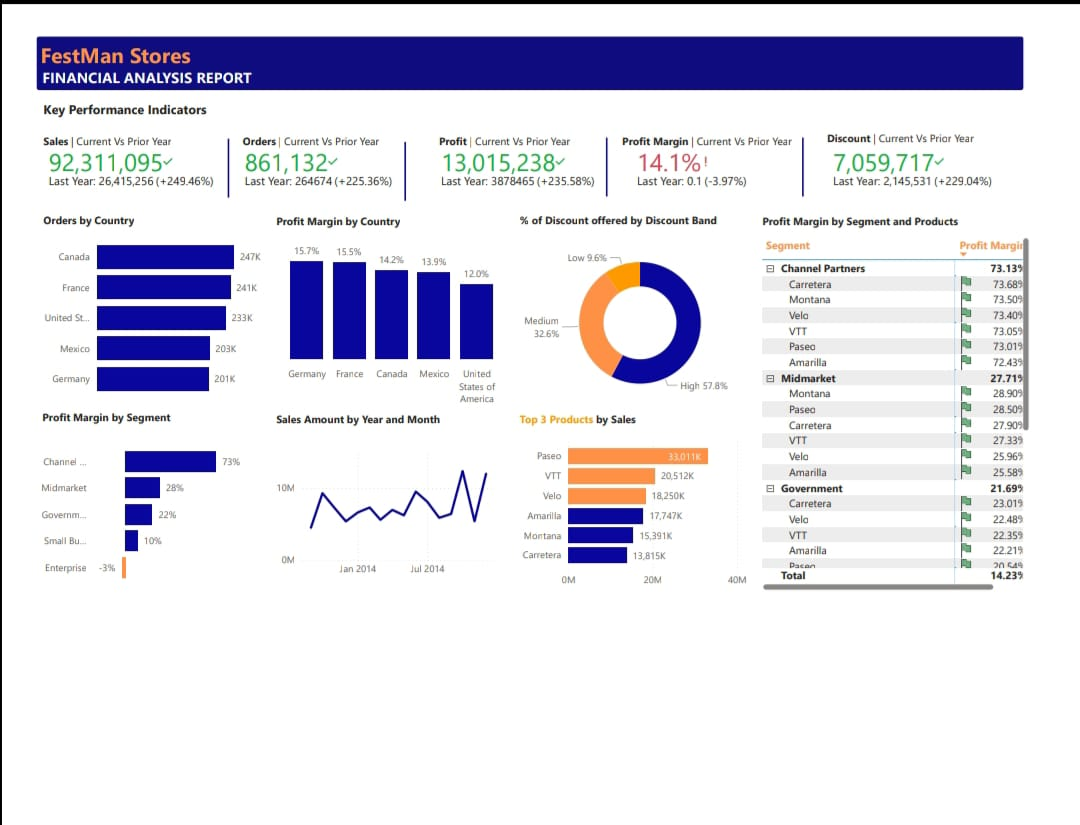

This screenshot's page, from the dashboard's own definition file:
{"tool":"powerbi","page":{"name":"Page 1","canvas":[1280,720],"ordinal":0},"visuals":[{"type":"shape","box":[11,8.2,1257,68.6],"z":1000},{"type":"shape","box":[11,79.6,1257,46.7],"z":2000},{"type":"shape","box":[11,127.6,1257,96.1],"z":3000},{"type":"shape","box":[11,259.3,290.9,216.8],"z":4000},{"type":"shape","box":[930.4,227.8,337.6,30.2],"z":5000},{"type":"shape","box":[311.5,262.1,299.1,216.8],"z":6000},{"type":"shape","box":[621.6,259.3,299.1,216.8],"z":7000},{"type":"shape","box":[311.5,226.4,299.1,32.9],"z":8000},{"type":"shape","box":[621.6,226.4,299.1,30.2],"z":9000},{"type":"shape","box":[11,226.4,290.9,31.6],"z":10000},{"type":"shape","box":[11,513.2,290.9,207.2],"z":11000},{"type":"shape","box":[311.5,513.2,299.1,207.2],"z":12000},{"type":"shape","box":[621.6,478.9,299.1,30.2],"z":14000},{"type":"shape","box":[311.5,481.6,299.1,28.8],"z":15000},{"type":"shape","box":[11,478.9,290.9,31.6],"z":16000},{"type":"textbox","box":[11,8.2,220.9,53.5],"z":17000},{"type":"textbox","box":[13.7,42.5,435,53.5],"z":18000},{"type":"textbox","box":[15.1,85.1,435,53.5],"z":19000},{"type":"kpi","fields":{"Indicator":["Analysis.Sales Amount"],"TrendLine":["Date Table.Year"],"Goal":["Analysis.Sales Amount LY"]},"box":[13.7,126.2,255.2,101.5],"z":20000},{"type":"textbox","box":[15.1,127.6,204.5,27.4],"z":21000},{"type":"shape","box":[86.4,138.6,337.6,75.5],"z":22000},{"type":"kpi","fields":{"TrendLine":["Date Table.Year"],"Indicator":["Analysis.Orders"],"Goal":["Analysis.Orders LY"]},"box":[263.5,126.2,255.2,101.5],"z":23000},{"type":"kpi","fields":{"TrendLine":["Date Table.Year"],"Indicator":["Analysis.Profit"],"Goal":["Analysis.Profit LY"]},"box":[513.2,126.2,255.2,101.5],"z":24000},{"type":"kpi","fields":{"TrendLine":["Date Table.Year"],"Indicator":["Analysis.Profit Margin"],"Goal":["Analysis.Profit Margin LY"]},"box":[763,126.2,255.2,101.5],"z":25000},{"type":"kpi","fields":{"TrendLine":["Date Table.Year"],"Indicator":["Analysis.Discount Offered"],"Goal":["Analysis.Discount Offered LY"]},"box":[1012.7,126.2,255.2,101.5],"z":26000},{"type":"textbox","box":[269,127.6,435,53.5],"z":27000},{"type":"textbox","box":[518.7,127.6,435,53.5],"z":28000},{"type":"textbox","box":[752,127.6,244.3,53.5],"z":29000},{"type":"textbox","box":[1012.7,123.5,201.7,53.5],"z":30000},{"type":"shape","box":[311.5,142.7,337.6,75.5],"z":31000},{"type":"shape","box":[568.1,137.2,337.6,75.5],"z":32000},{"type":"shape","box":[817.8,137.2,337.6,75.5],"z":33000},{"type":"barChart","fields":{"Category":["financials.Country"],"Y":["Analysis.Orders"]},"box":[0,245.6,301.9,236],"z":34000},{"type":"textbox","box":[15.1,227.8,240.1,35.7],"z":35000},{"type":"clusteredColumnChart","fields":{"Y":["Analysis.Profit Margin"],"Category":["financials.Country"]},"box":[300.5,255.2,319.7,230.5],"z":36000},{"type":"textbox","box":[311.5,229.2,240.1,35.7],"z":37000},{"type":"donutChart","fields":{"Category":["financials.Discount Band"],"Y":["Analysis.Discount Offered"]},"box":[610.6,264.8,337.6,216.8],"z":38000},{"type":"textbox","box":[621.6,227.8,284,35.7],"z":39000},{"type":"barChart","fields":{"Category":["financials.Segment"],"Y":["Analysis.Profit Margin"]},"box":[0,510.5,282.7,207.2],"z":40000},{"type":"lineChart","fields":{"Y":["Analysis.Sales Amount"],"Category":["Date Table.Date.Variation.Date Hierarchy.Year","Date Table.Date.Variation.Date Hierarchy.Month"]},"box":[311.5,524.2,299.1,181.1],"z":41000},{"type":"textbox","box":[13.7,478.9,240.1,35.7],"z":43000},{"type":"textbox","box":[311.5,481.6,240.1,35.7],"z":44000},{"type":"textbox","box":[621.6,481.6,240.1,35.7],"z":45000},{"type":"shape","box":[621.6,513.2,299.1,207.2],"z":47000},{"type":"barChart","fields":{"Y":["Analysis.Sales Amount"],"Category":["financials.Product"]},"box":[620.2,510.5,310.1,208.6],"z":47001},{"type":"pivotTable","fields":{"Rows":["financials.Segment","financials.Product"],"Values":["Analysis.Profit Margin"]},"box":[930.4,259.3,349.9,459.7],"z":47002},{"type":"pivotTable","fields":{"Rows":["financials.Segment","financials.Product"],"Values":["Analysis.Profit Margin"]},"box":[930.1,259.3,349.9,459.7],"z":47003},{"type":"textbox","box":[930.4,229.2,306,35.7],"z":47004}]}

Visuals, with their boxes on the page's 1280x720 design canvas (x1, y1, x2, y2). These are canvas units, not pixel positions in the 1080x825 screenshot, which may show the page scaled, cropped or inside an application window:
shape: 11, 8, 1268, 77
shape: 11, 80, 1268, 126
shape: 11, 128, 1268, 224
shape: 11, 259, 302, 476
shape: 930, 228, 1268, 258
shape: 312, 262, 611, 479
shape: 622, 259, 921, 476
shape: 312, 226, 611, 259
shape: 622, 226, 921, 257
shape: 11, 226, 302, 258
shape: 11, 513, 302, 720
shape: 312, 513, 611, 720
shape: 622, 479, 921, 509
shape: 312, 482, 611, 510
shape: 11, 479, 302, 510
textbox: 11, 8, 232, 62
textbox: 14, 42, 449, 96
textbox: 15, 85, 450, 139
kpi - Analysis.Sales Amount x Date Table.Year: 14, 126, 269, 228
textbox: 15, 128, 220, 155
shape: 86, 139, 424, 214
kpi - Date Table.Year x Analysis.Orders: 264, 126, 519, 228
kpi - Date Table.Year x Analysis.Profit: 513, 126, 768, 228
kpi - Date Table.Year x Analysis.Profit Margin: 763, 126, 1018, 228
kpi - Date Table.Year x Analysis.Discount Offered: 1013, 126, 1268, 228
textbox: 269, 128, 704, 181
textbox: 519, 128, 954, 181
textbox: 752, 128, 996, 181
textbox: 1013, 124, 1214, 177
shape: 312, 143, 649, 218
shape: 568, 137, 906, 213
shape: 818, 137, 1155, 213
barChart - financials.Country x Analysis.Orders: 0, 246, 302, 482
textbox: 15, 228, 255, 264
clusteredColumnChart - Analysis.Profit Margin x financials.Country: 300, 255, 620, 486
textbox: 312, 229, 552, 265
donutChart - financials.Discount Band x Analysis.Discount Offered: 611, 265, 948, 482
textbox: 622, 228, 906, 264
barChart - financials.Segment x Analysis.Profit Margin: 0, 510, 283, 718
lineChart - Analysis.Sales Amount x Date Table.Date.Variation.Date Hierarchy.Year: 312, 524, 611, 705
textbox: 14, 479, 254, 515
textbox: 312, 482, 552, 517
textbox: 622, 482, 862, 517
shape: 622, 513, 921, 720
barChart - Analysis.Sales Amount x financials.Product: 620, 510, 930, 719
pivotTable - financials.Segment x financials.Product: 930, 259, 1280, 719
pivotTable - financials.Segment x financials.Product: 930, 259, 1280, 719
textbox: 930, 229, 1236, 265
